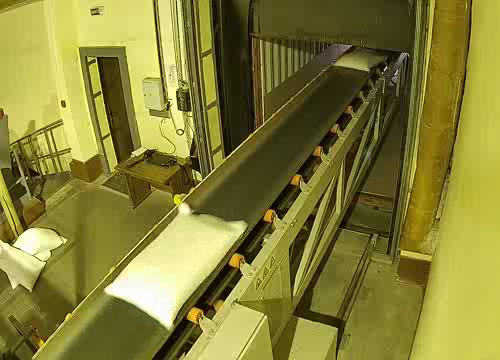bag: (103, 200, 251, 330), (332, 44, 391, 75)
